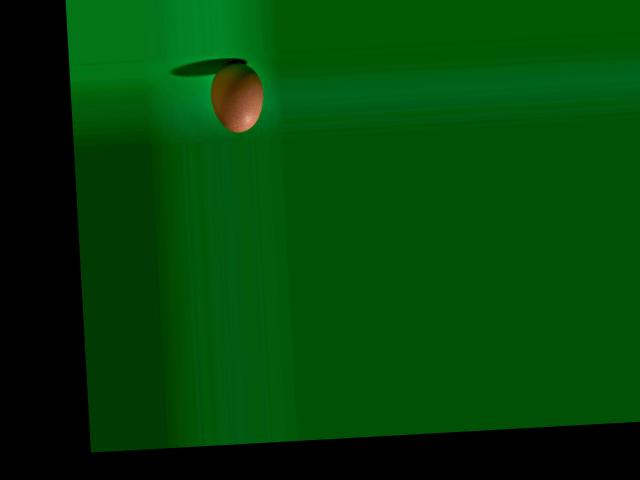egg: (208, 60, 265, 133)
